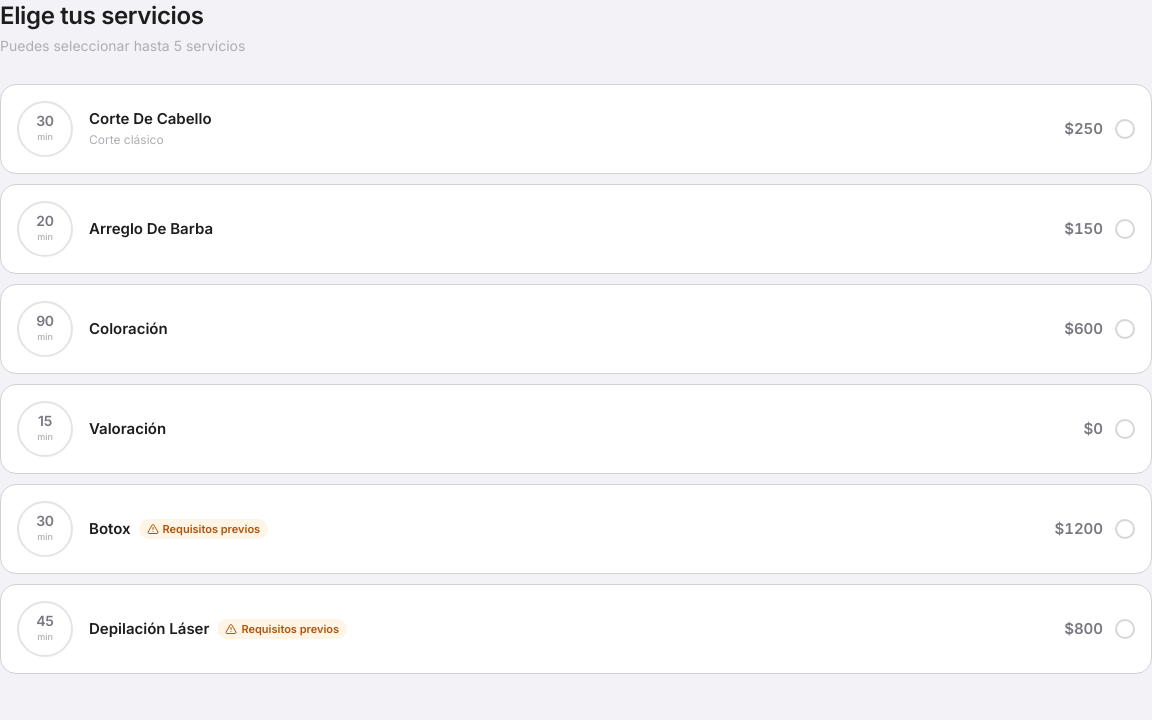
ServiceSelector — RequirementsModal interception (add only) › "Reservar X primero" adds the prerequisite object, not the original service
Click the button "30 min Botox Requisitos previos $1200": [45, 529] box [0,484,1151,574]
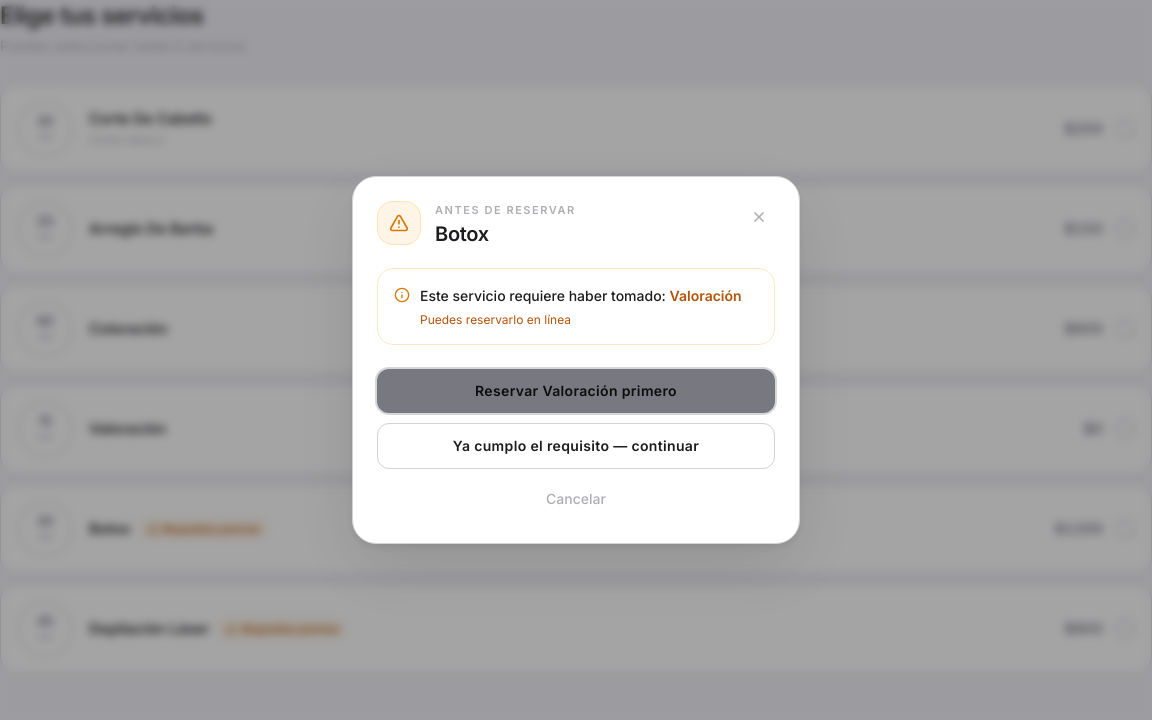
Click the button "Reservar Valoración primero": [576, 391] box [377,369,775,413]
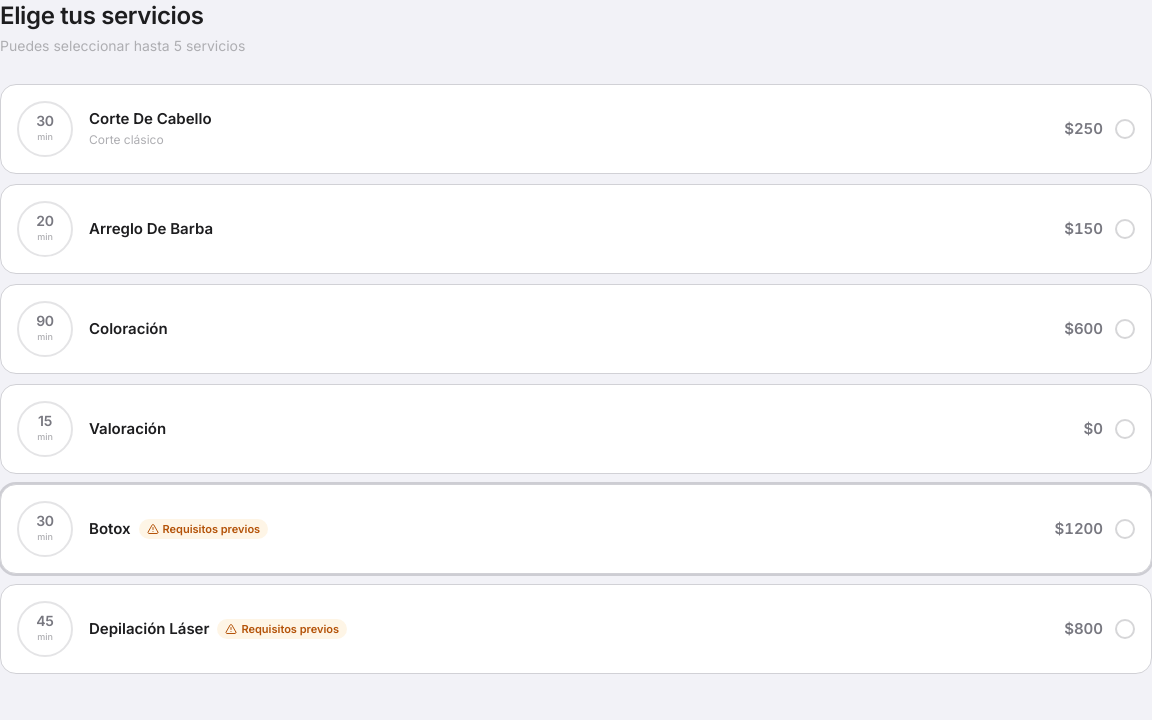
Expected: the dialog is gone
